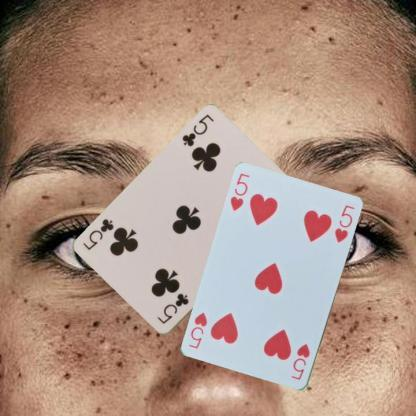5c: (180, 112, 216, 149), (154, 290, 190, 326)
5h: (228, 171, 252, 214), (288, 341, 312, 382)
